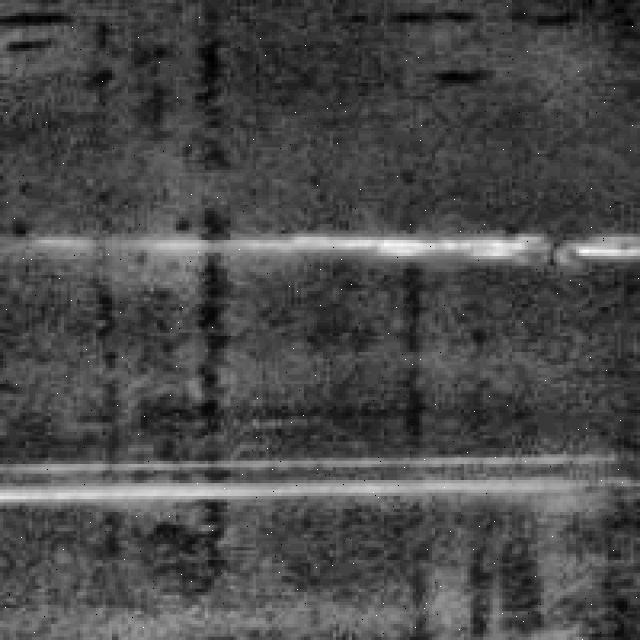Inclusion: (9, 436, 596, 502), (70, 214, 640, 269)
